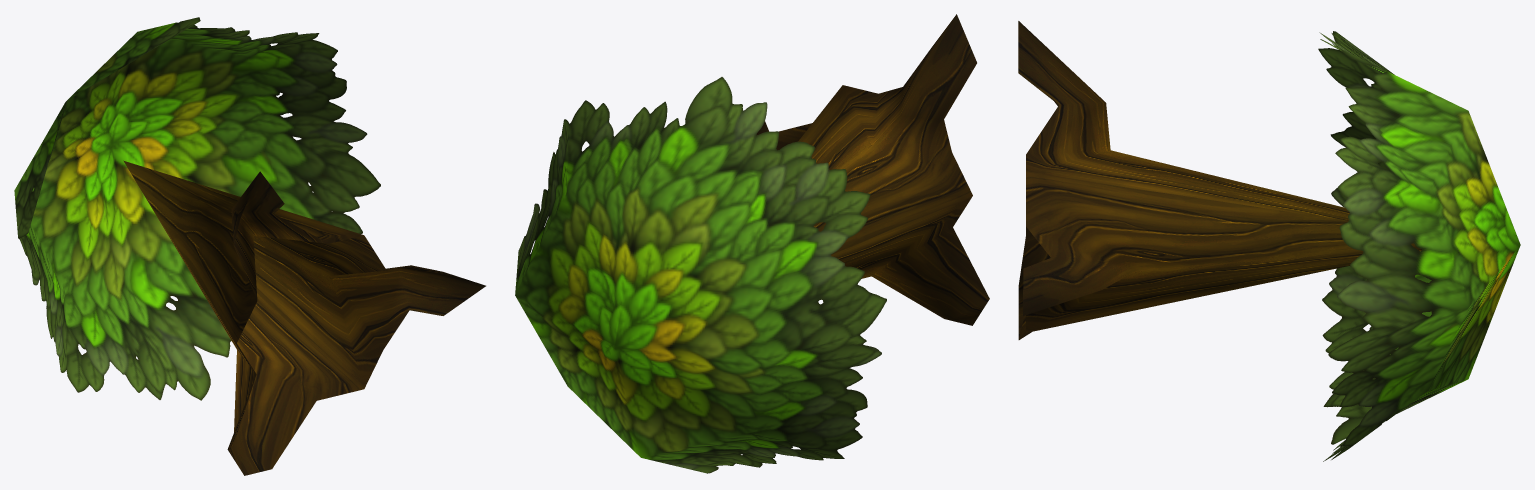
The model's file is Tree 01.FBX.
3 views of the same model, side by side, from view 1: azimuth 30°, elevation 25°; view 2: azimuth 150°, elevation 25°; view 3: azimuth 270°, elevation 25° (orthographic). The views are drawn at different scales.
Parts seen in each view (by area): view 1: env_tree01; view 2: env_tree01; view 3: env_tree01.
Part boxes in pixels (x1,y1,x2,y2): env_tree01: (14, 17, 485, 475); env_tree01: (515, 14, 989, 473); env_tree01: (1018, 21, 1520, 461).
Bounding box in the file's own units: 176 × 176 × 191.
